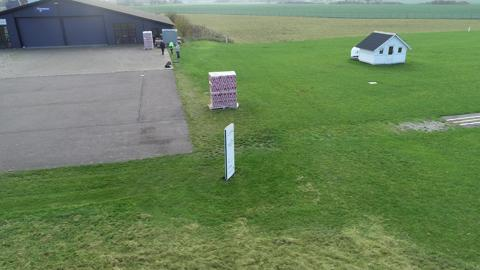RockwoolPallet: (142, 30, 154, 50)
